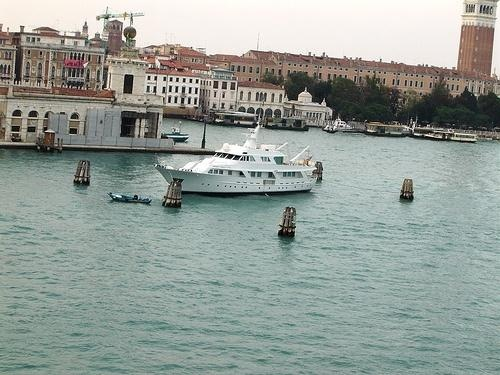boat: (155, 123, 318, 196), (107, 190, 151, 206)
